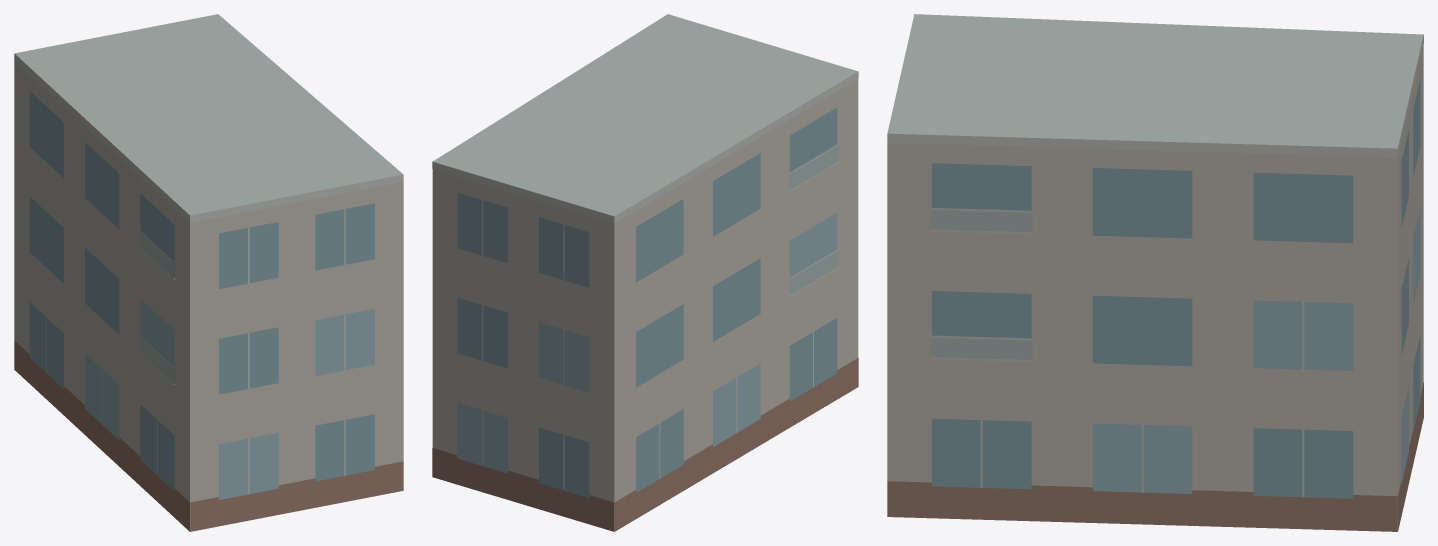
Rendered from survey-upis-32638259.glb.
The picture shows the model from 3 angles, left to right: view 1: azimuth 30°, elevation 25°; view 2: azimuth 150°, elevation 25°; view 3: azimuth 270°, elevation 25°; orthographic projection. The views are drawn at different scales.
Visible parts, largest first — view 1: survey-upis-32638259.tmp; view 2: survey-upis-32638259.tmp; view 3: survey-upis-32638259.tmp.
Part boxes in pixels (box(x1,y1,x2,y2)): survey-upis-32638259.tmp: box(14, 14, 403, 531); survey-upis-32638259.tmp: box(432, 14, 858, 531); survey-upis-32638259.tmp: box(887, 14, 1423, 531).
Bounding box in the file's own units: 7.96 × 10.55 × 13.39.
